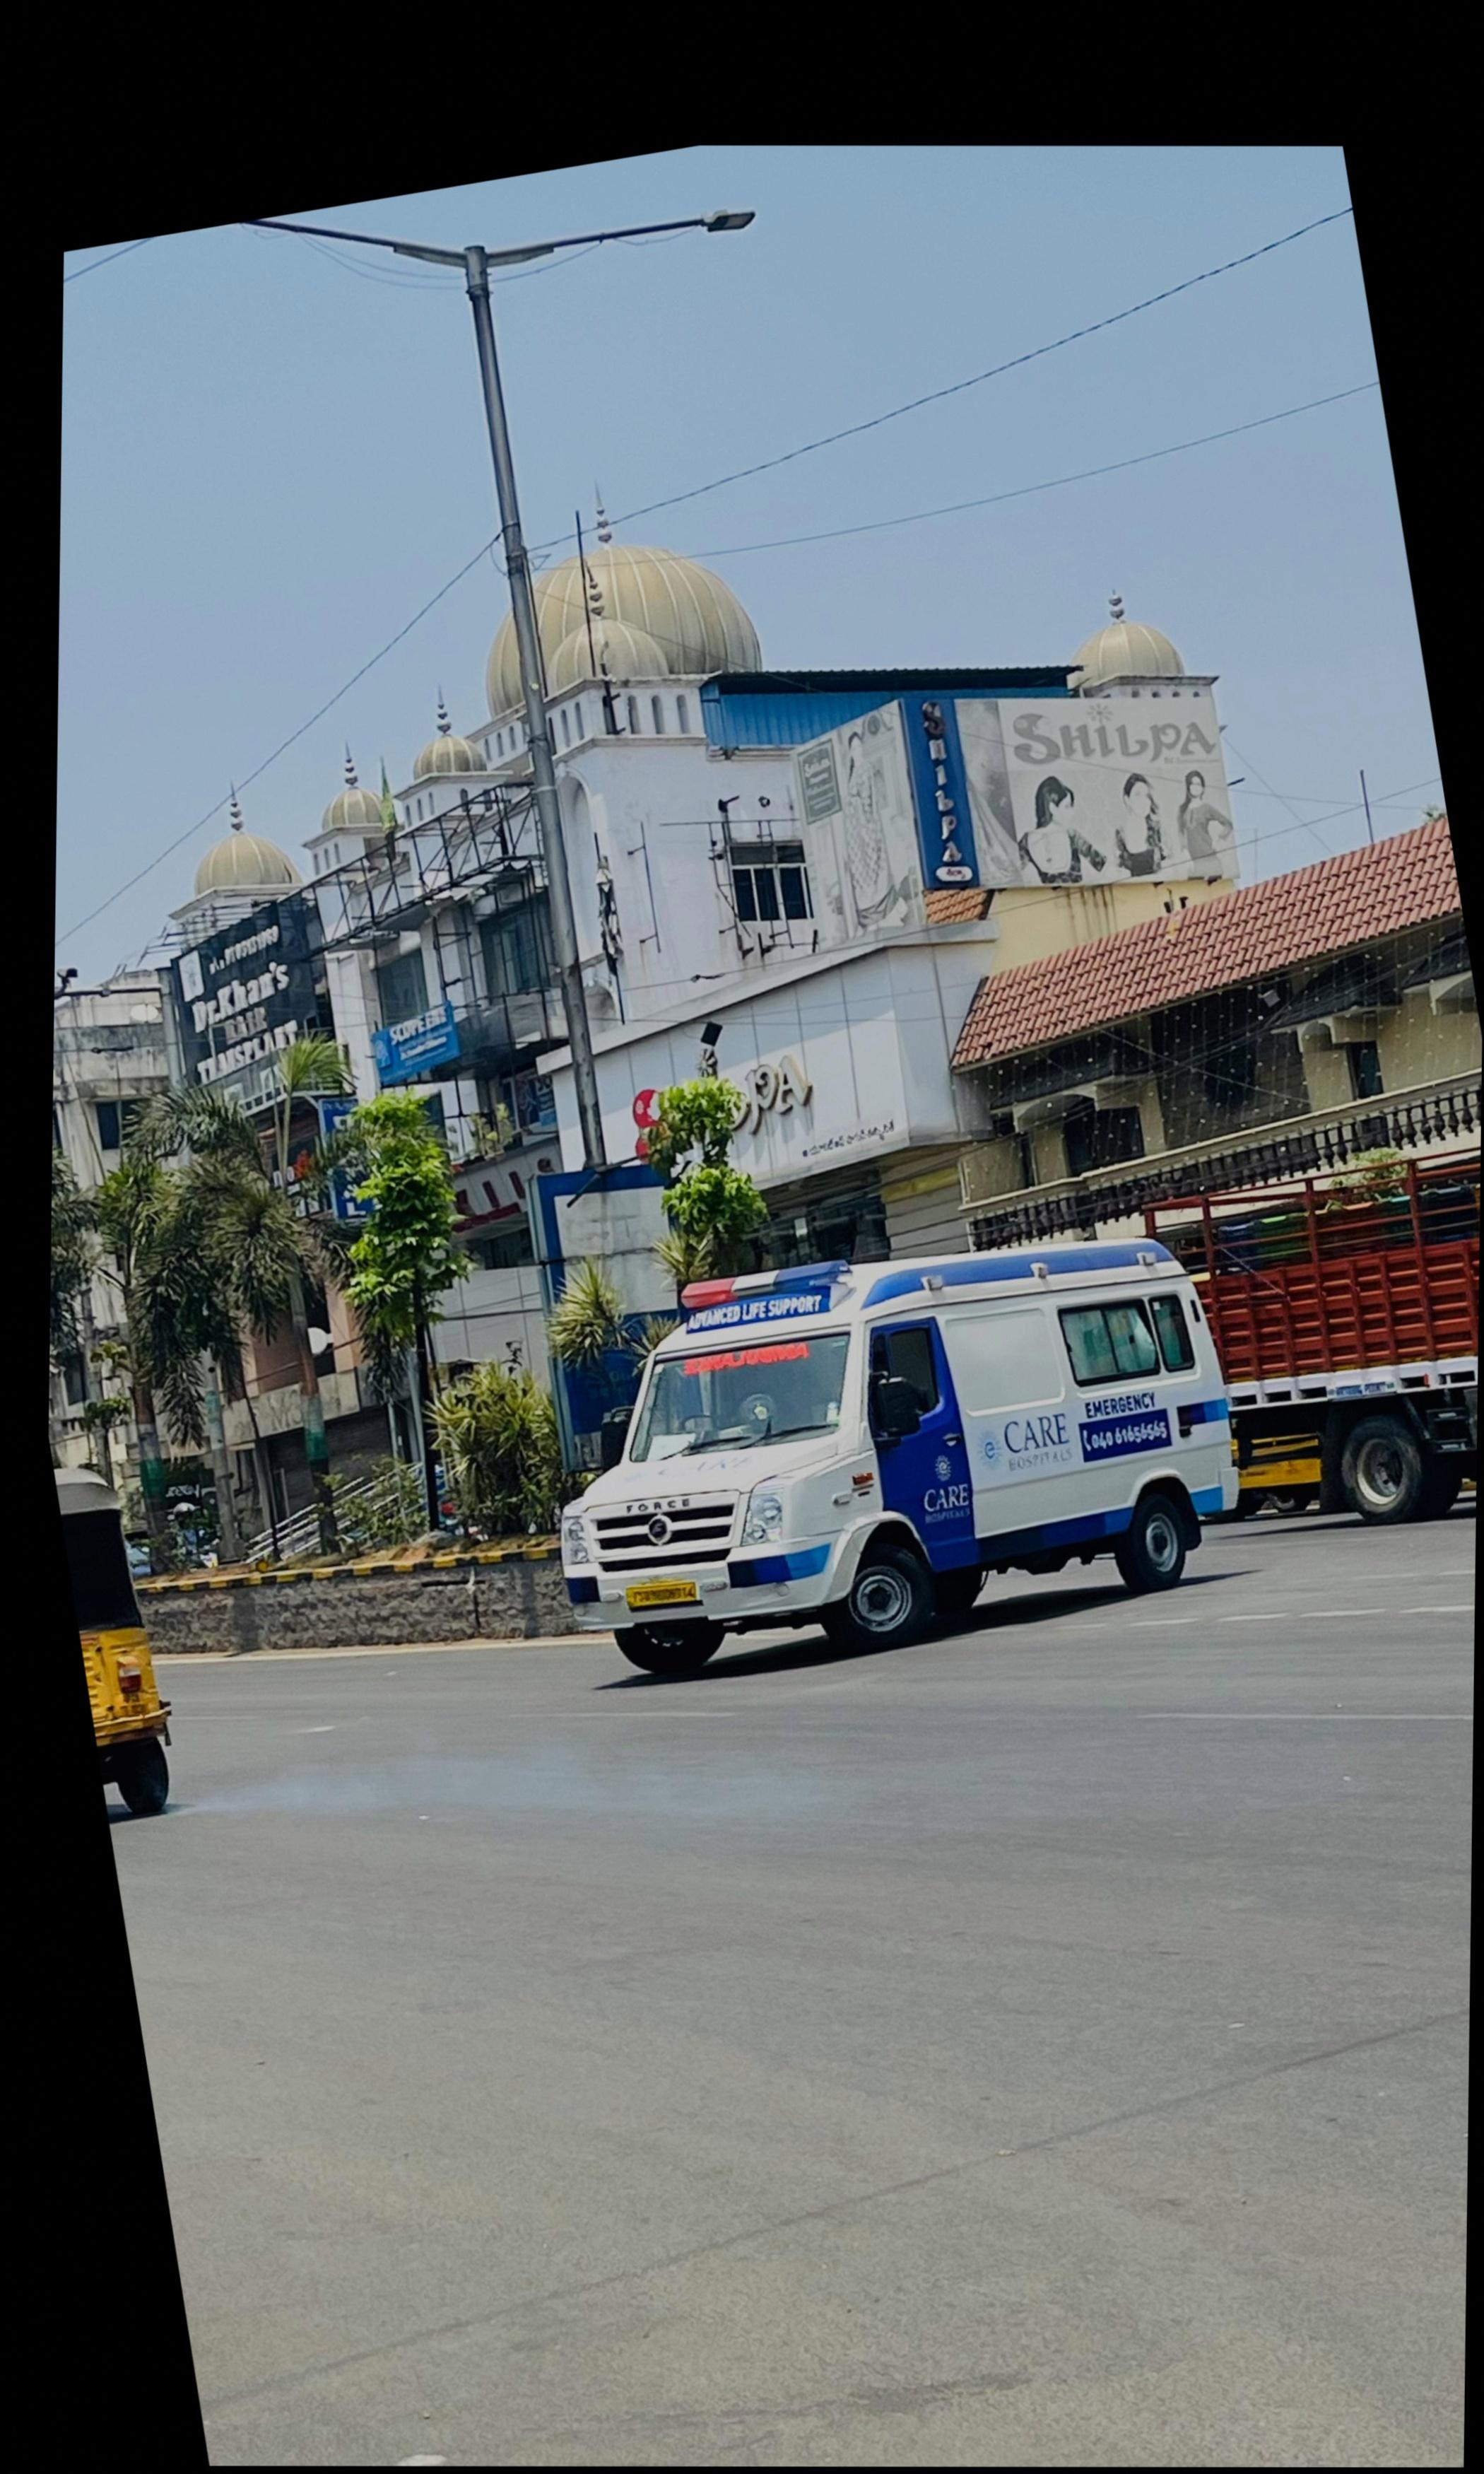ambulance: (560, 1235, 1244, 1679)
